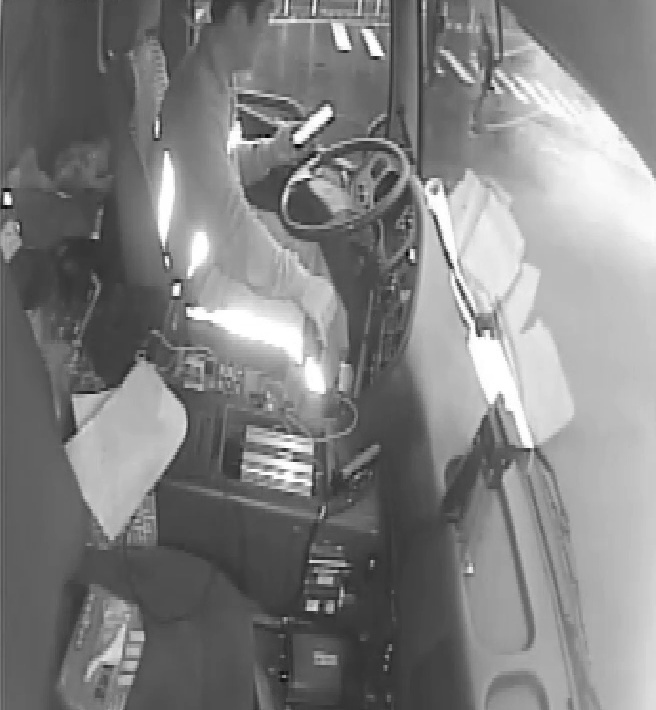cellphone: (284, 97, 334, 154)
